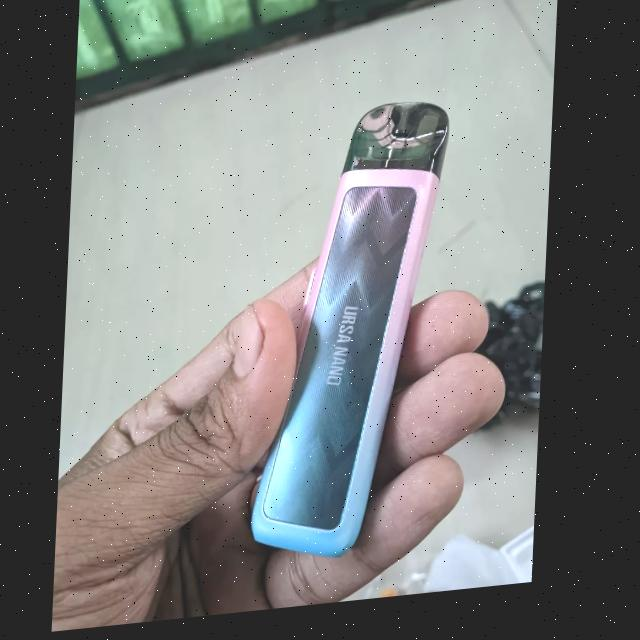vape: (255, 107, 453, 571)
